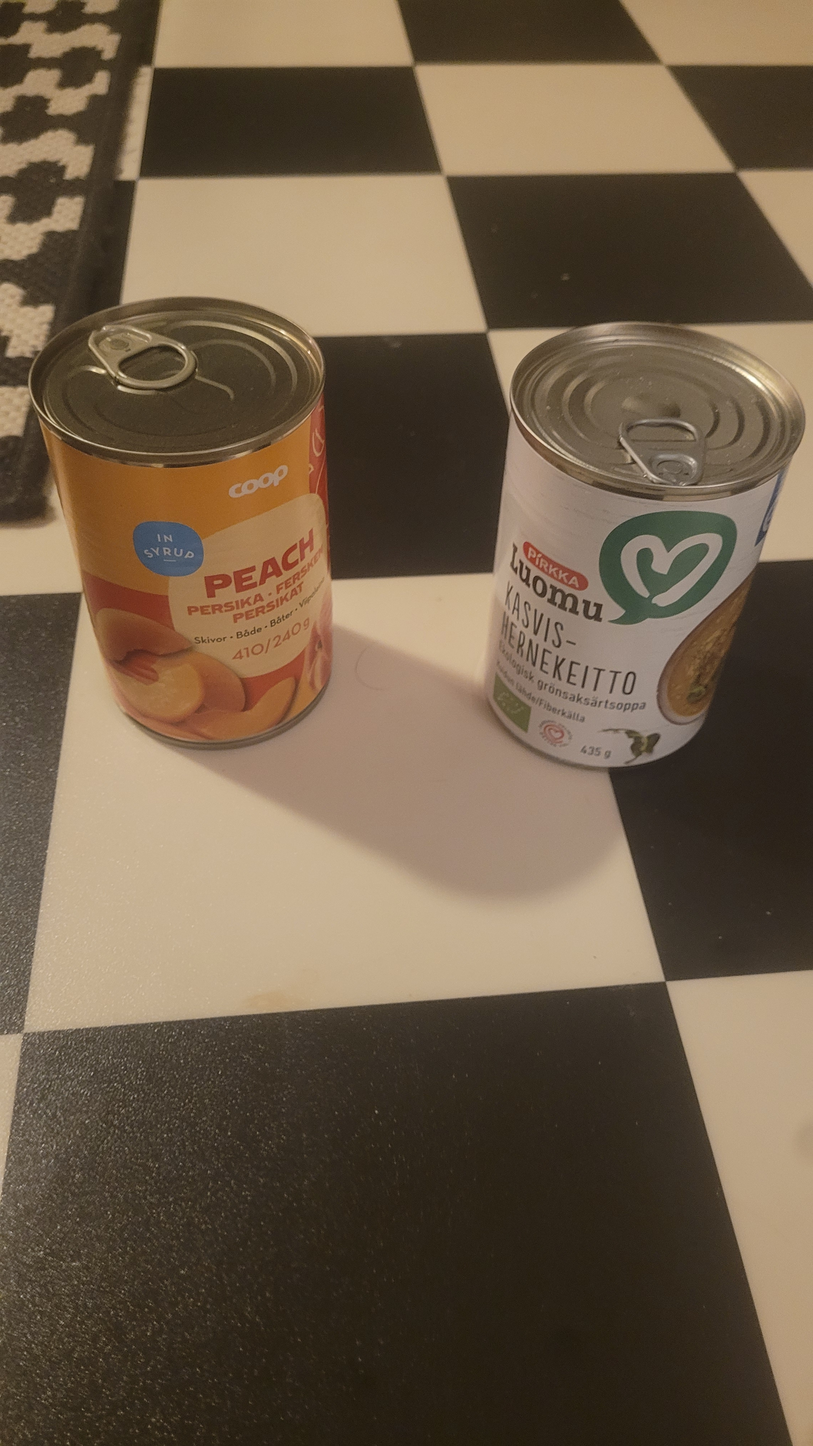Konservburk: (485, 322, 806, 771), (29, 295, 332, 750)
